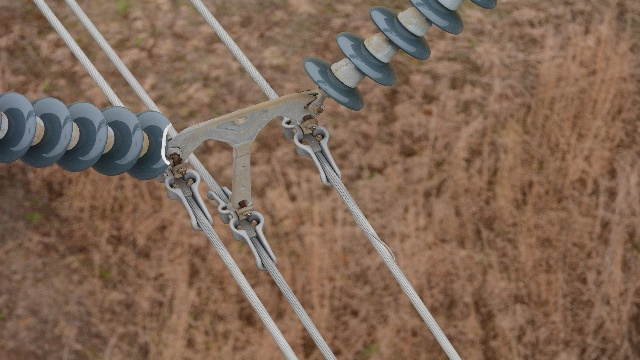broken_local: (161, 121, 174, 168)
insulator_unspecified: (302, 0, 499, 112), (0, 91, 175, 181)
